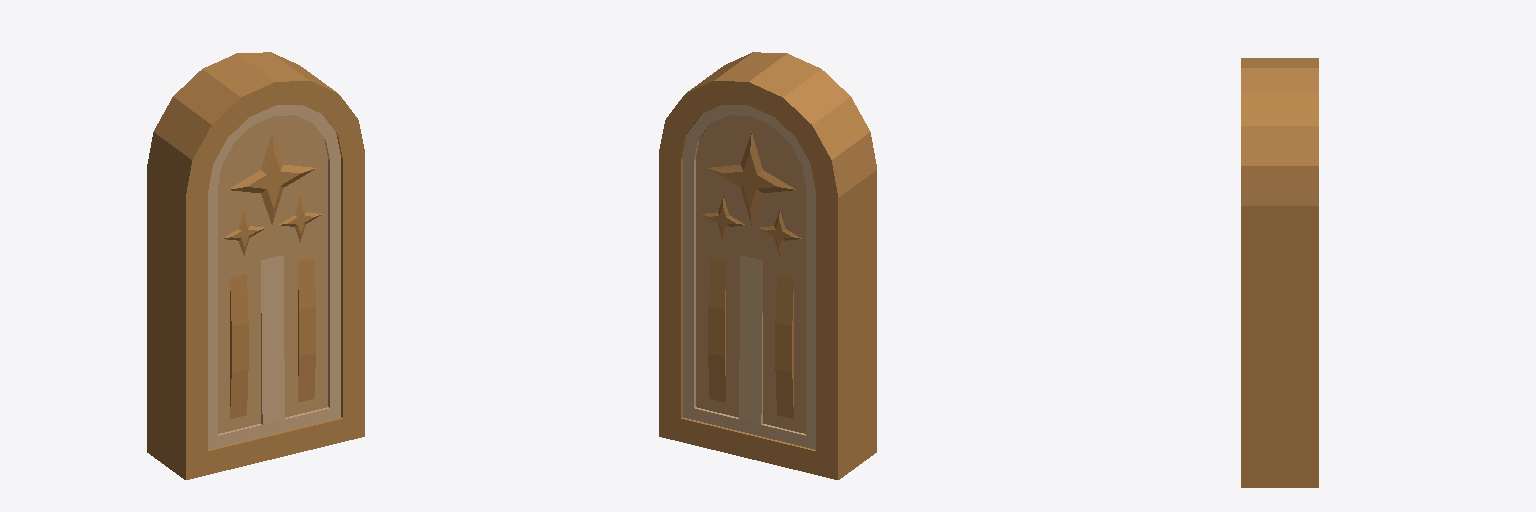
Rendered from Wall_Straight_Door_Stars.obj.
3 views of the same model, side by side, from view 1: azimuth 30°, elevation 25°; view 2: azimuth 150°, elevation 25°; view 3: azimuth 270°, elevation 25° (orthographic).
Visible parts, largest first — view 1: object1; view 2: object1; view 3: object1.
Part boxes in pixels (x1,y1,x2,y2): object1: (147,52,364,479); object1: (659,52,876,479); object1: (1241,58,1318,487).
Size of the model in its own units: 0.8 by 1.6 by 0.3.